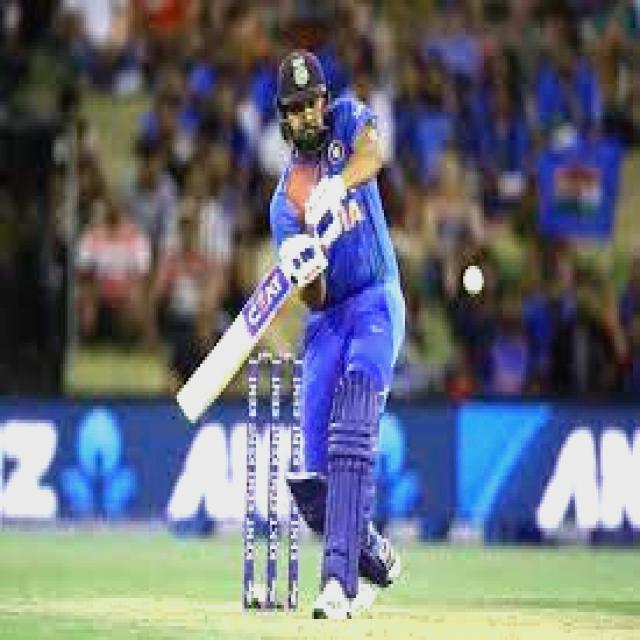toe: (164, 392, 202, 424)
